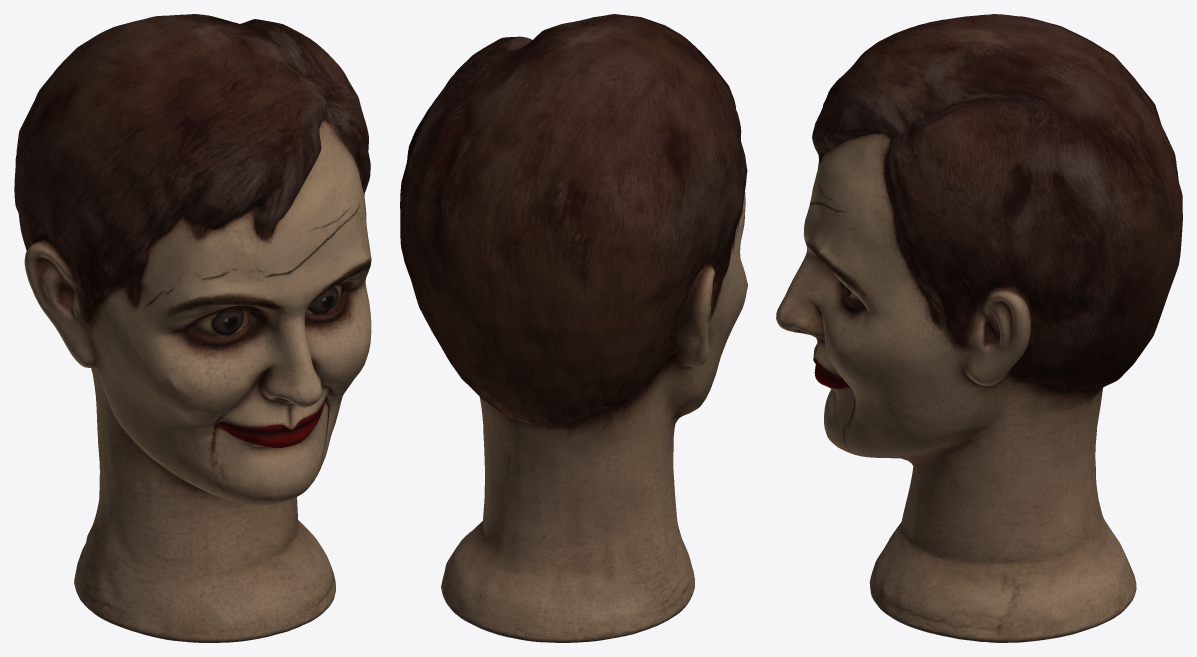
The model's file is rachado__s2026.glb.
3 views of the same model, side by side, from view 1: azimuth 30°, elevation 25°; view 2: azimuth 150°, elevation 25°; view 3: azimuth 270°, elevation 25° (orthographic). The views are drawn at different scales.
Bounding box in the file's own units: 0.5764 × 0.9992 × 0.668.
1 material, 1 textured.
